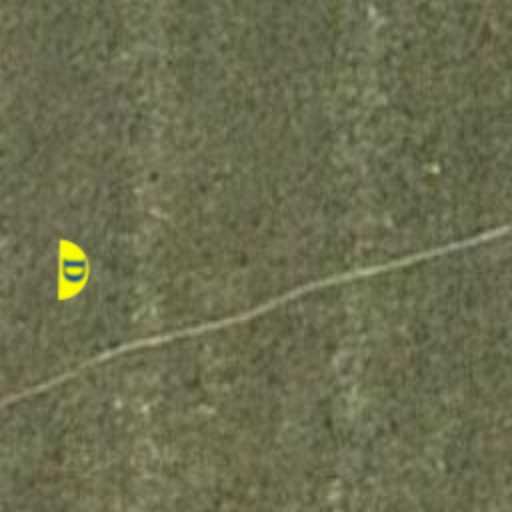semicircle: (42, 238, 106, 302)
